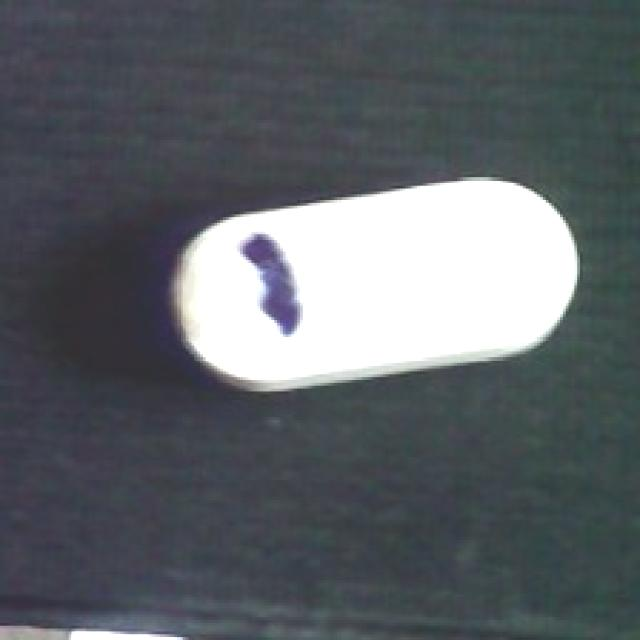defected: (160, 174, 586, 394)
